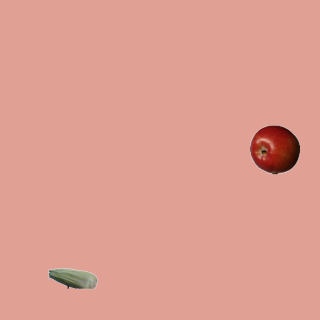Apple Braeburn: (249, 124, 299, 174)
Corn Husk: (47, 253, 97, 303)
